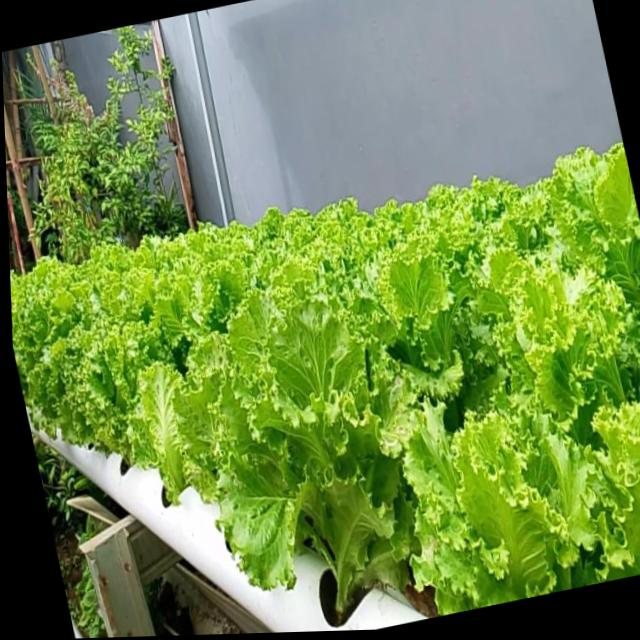Mature: (12, 147, 640, 629), (191, 304, 436, 628), (62, 321, 180, 477)
